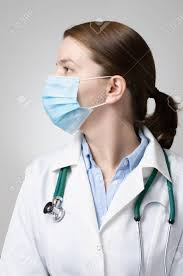with-mask: (41, 29, 146, 138)
